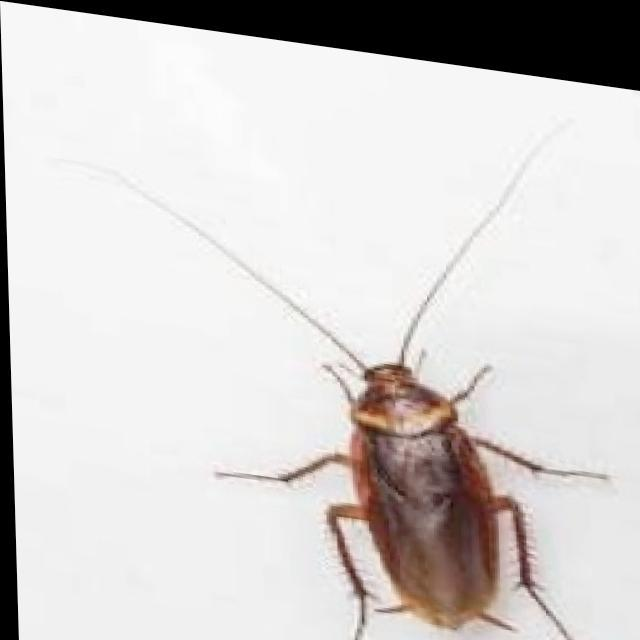cockroach: (344, 365, 506, 630)
